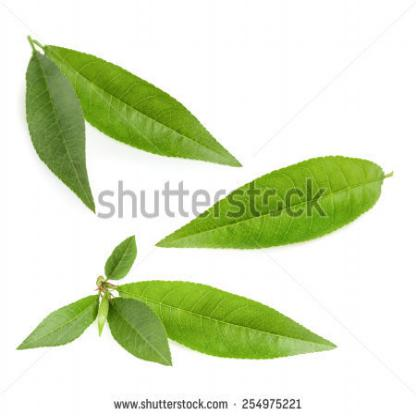Peach leaf: (44, 41, 244, 171), (152, 153, 391, 257), (120, 277, 343, 363), (28, 50, 95, 219), (5, 289, 103, 361), (105, 294, 180, 374), (99, 229, 141, 284)
